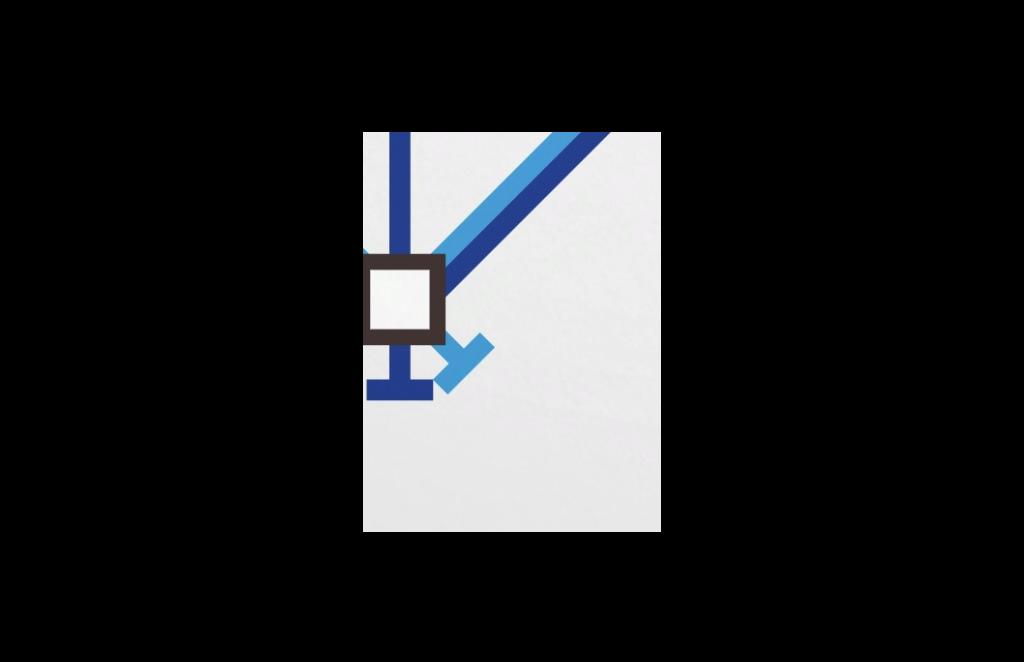connected_station: (363, 236, 462, 357)
line_endpoint: (432, 324, 508, 406), (363, 355, 440, 429)
